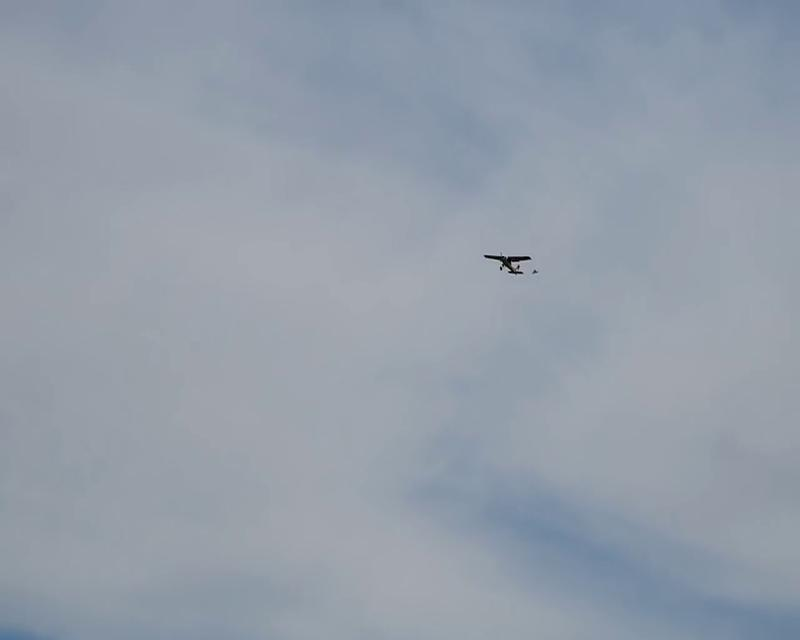UAV: (482, 251, 538, 276)
